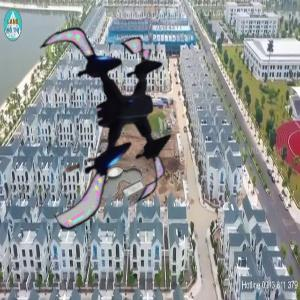drone: (9, 16, 205, 212)
